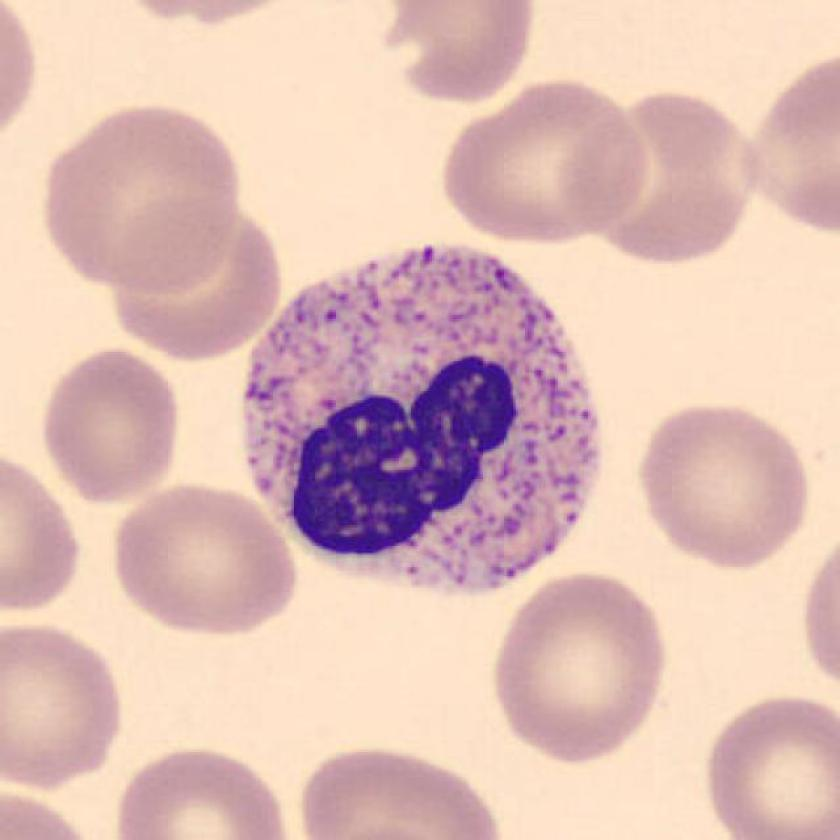neutrophil: (245, 245, 601, 590)
